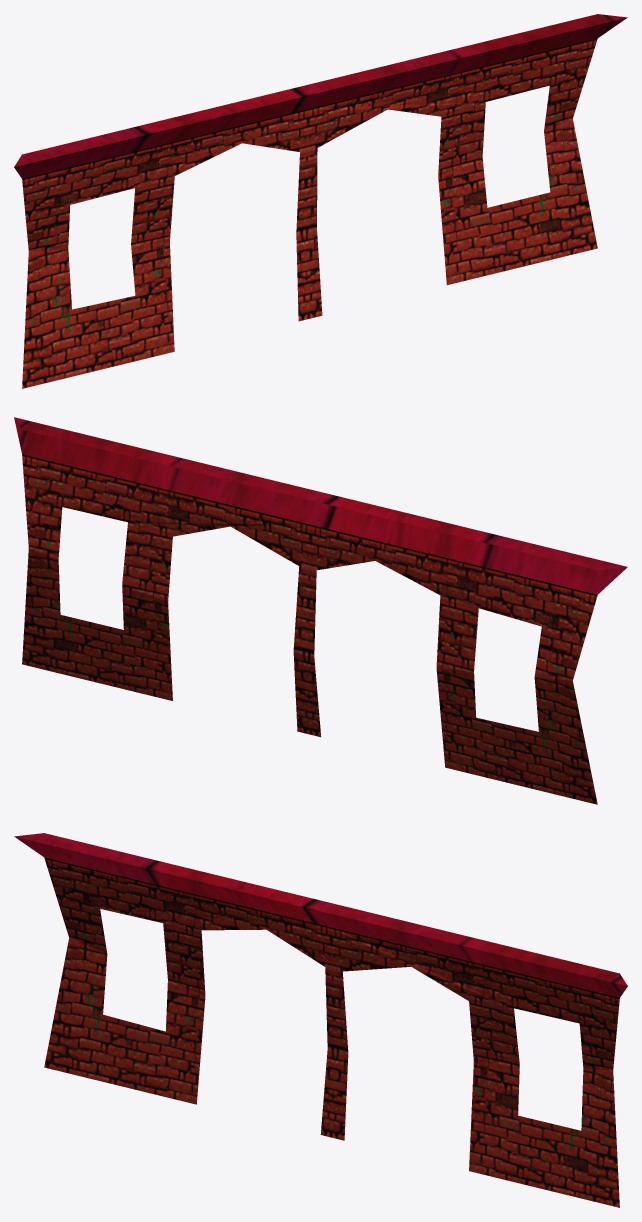
File: W_A1_foof_2052.glb
The picture shows the model from 3 angles, top to bottom: view 1: azimuth 30°, elevation 25°; view 2: azimuth 150°, elevation 25°; view 3: azimuth 330°, elevation 25°; orthographic projection.
Parts seen in each view (by area): view 1: polySurfaceShape191, polySurfaceShape1056; view 2: polySurfaceShape191, polySurfaceShape1056; view 3: polySurfaceShape191, polySurfaceShape1056.
Part boxes in pixels (<box>): polySurfaceShape191: <box>22,38,597,388</box>; polySurfaceShape1056: <box>14,14,627,178</box>; polySurfaceShape191: <box>22,454,597,804</box>; polySurfaceShape1056: <box>14,417,627,594</box>; polySurfaceShape191: <box>44,857,619,1207</box>; polySurfaceShape1056: <box>14,833,627,997</box>.
Bounding box in the file's own units: 1.07 × 0.3891 × 0.0607.
2 materials, 2 textured.
